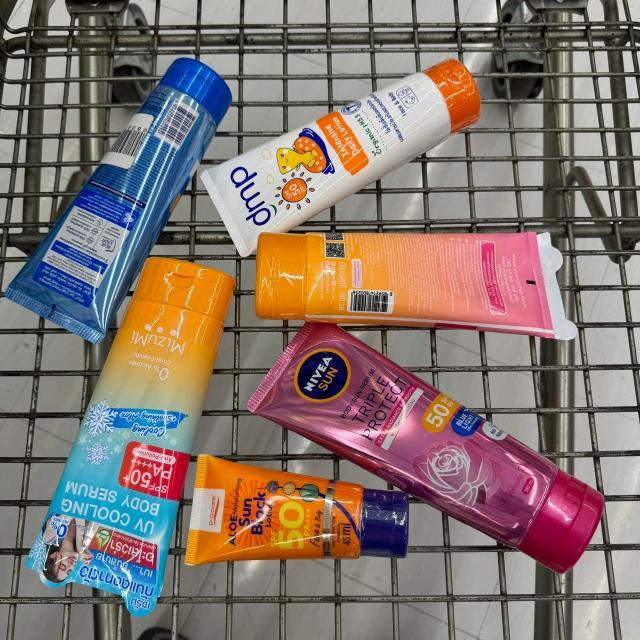Squeeze Tube: (243, 332, 613, 583), (19, 257, 234, 617), (5, 55, 237, 342), (205, 56, 483, 259), (259, 228, 564, 337), (183, 458, 418, 571)
